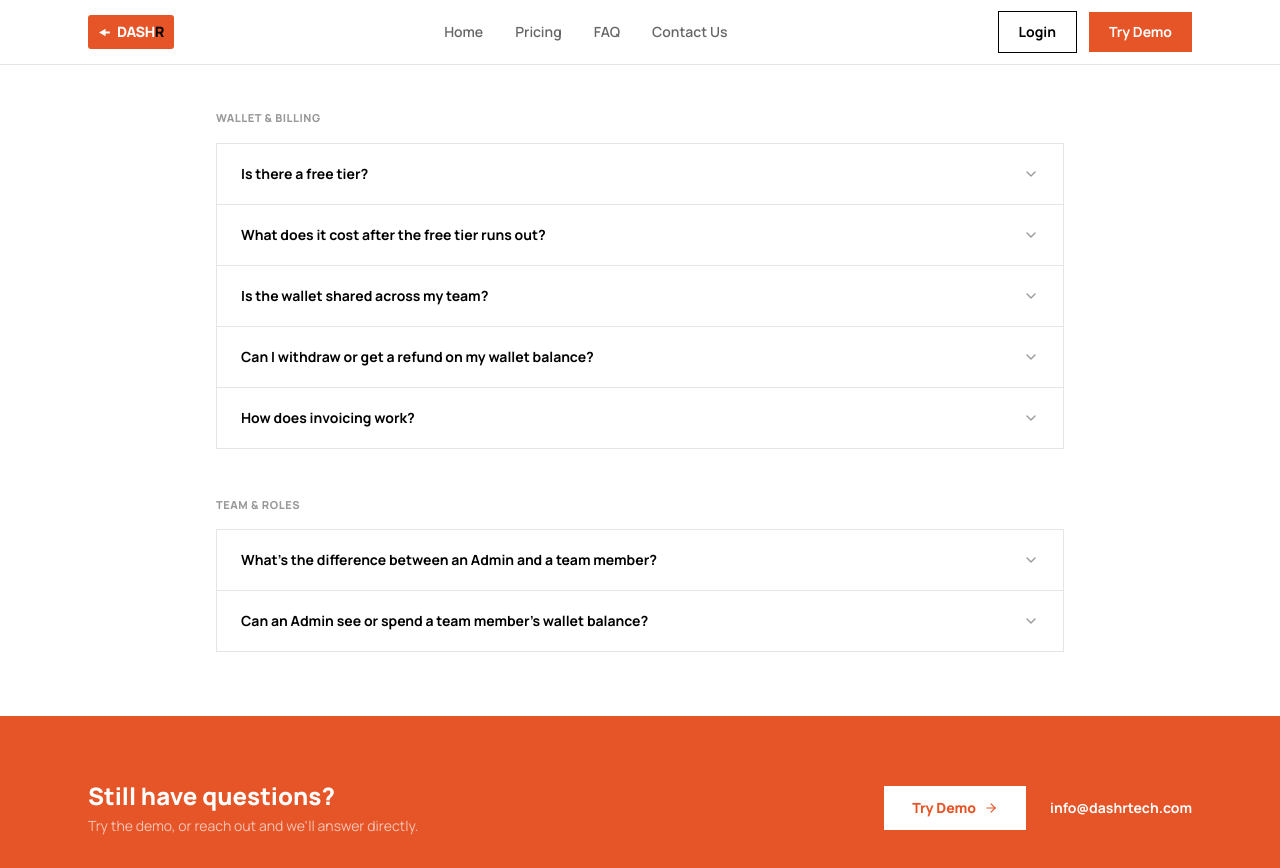
Scenario: /faq page › explains the Admin role
This screenshot has width=1280, height=868.
(page scrolled)
What coordinates should you click on to do the following:
click the button "What's the difference between an Admin and a team member?"
I would click on:
 (640, 560)
Its box is [217, 530, 1063, 590].
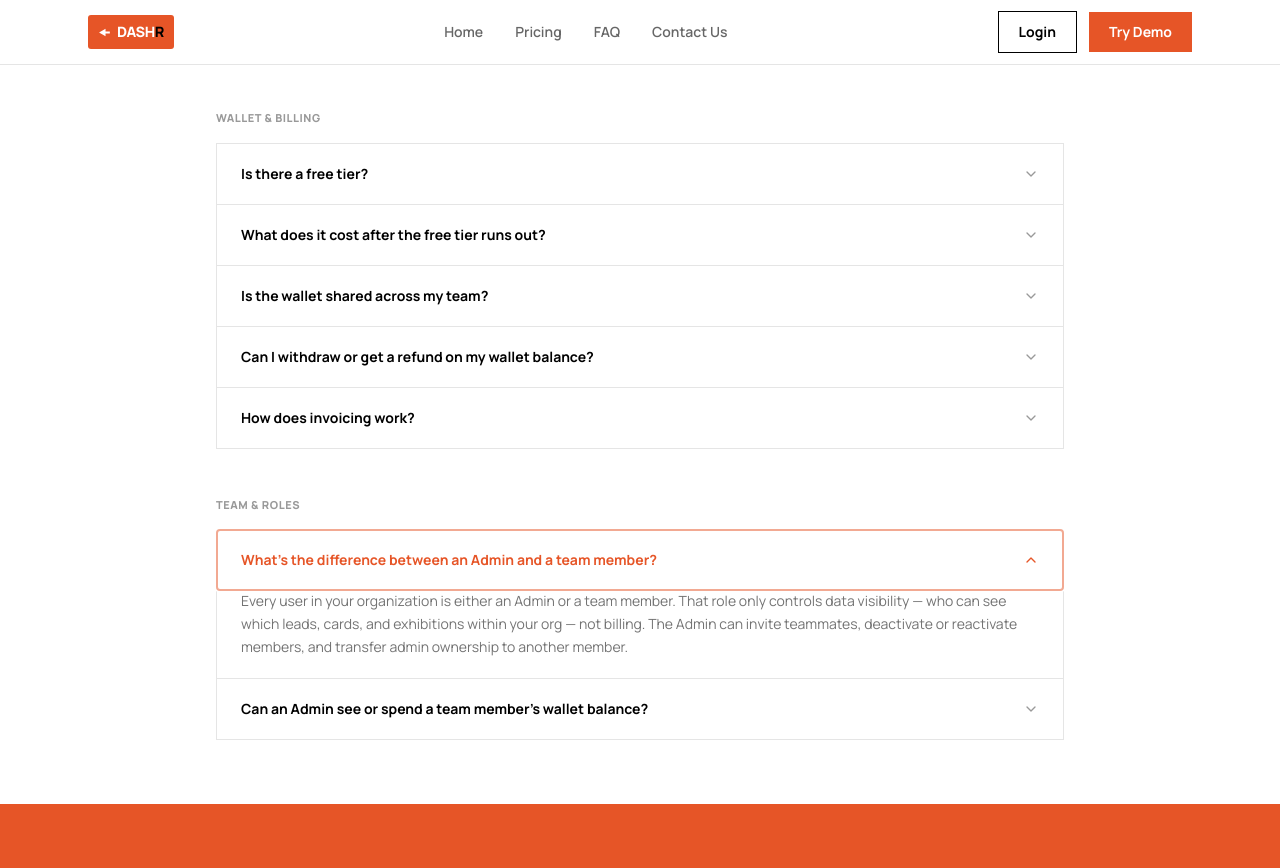
Expected: the text "only controls data visibility" is shown, [241, 591, 1017, 656]
